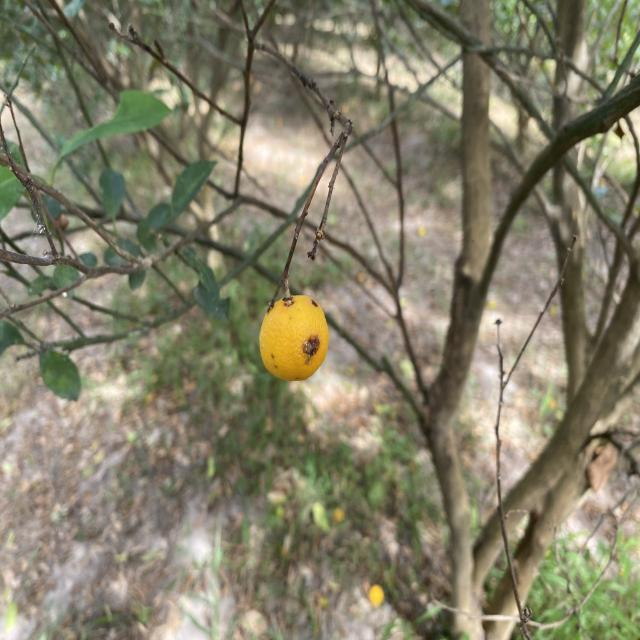black spot: (258, 292, 332, 382)
